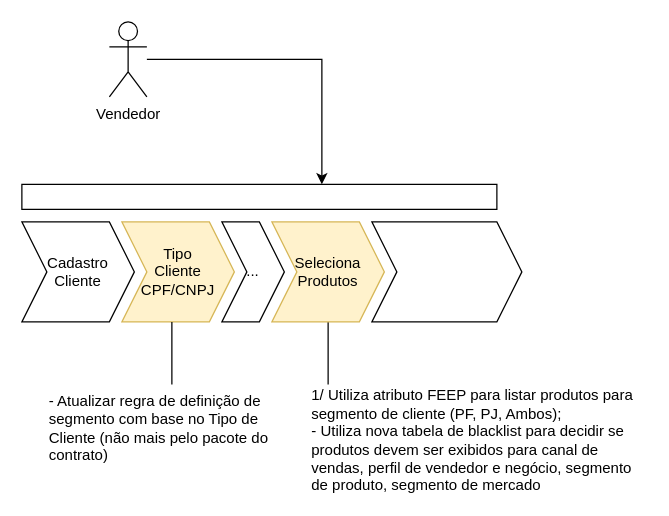
The diagram is 669 pixels wide and 516 high, and some of its shapes have lost their labels. The centre of each missing label's shape, as x and y in pixels:
Agendamento: pixel 446 271
NETSALES: pixel 259 196
